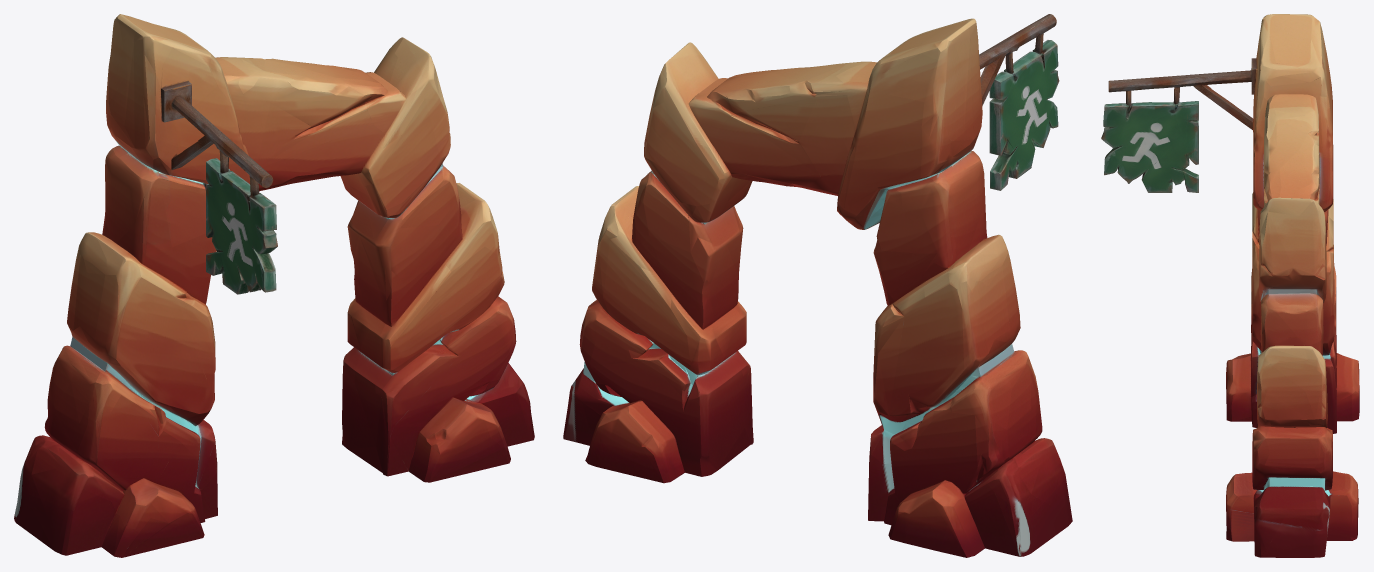
The model's file is exit-scam-desert.glb.
3 renders of one model, left to right at view 1: azimuth 30°, elevation 25°; view 2: azimuth 150°, elevation 25°; view 3: azimuth 270°, elevation 25°, orthographic. The views are drawn at different scales.
Size of the model in its own units: 1.9 by 1.87 by 1.11.
Materials: 1 (1 with a texture image).
